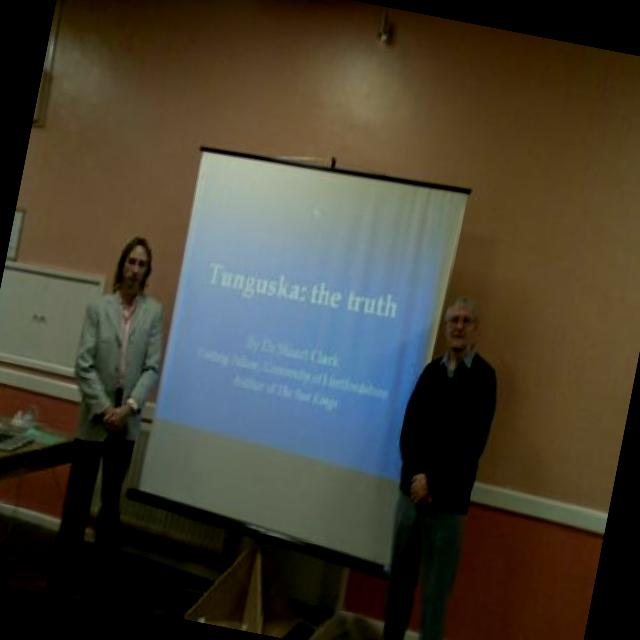Person: (29, 213, 184, 582), (355, 292, 513, 640)
